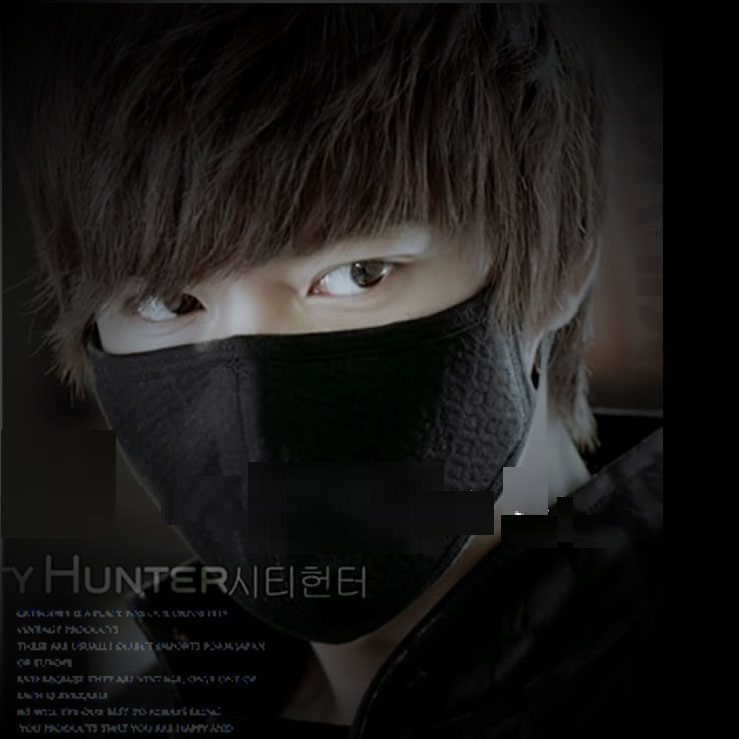face_mask: (93, 91, 506, 599)
